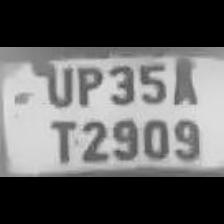0: (138, 114, 170, 160)
2: (76, 116, 108, 162)
3: (104, 60, 136, 106)
5: (134, 59, 168, 105)
9: (170, 111, 202, 160), (110, 114, 139, 160)
A: (168, 52, 200, 106)
P: (71, 62, 103, 108)
T: (43, 114, 77, 164)
U: (40, 60, 74, 108)
